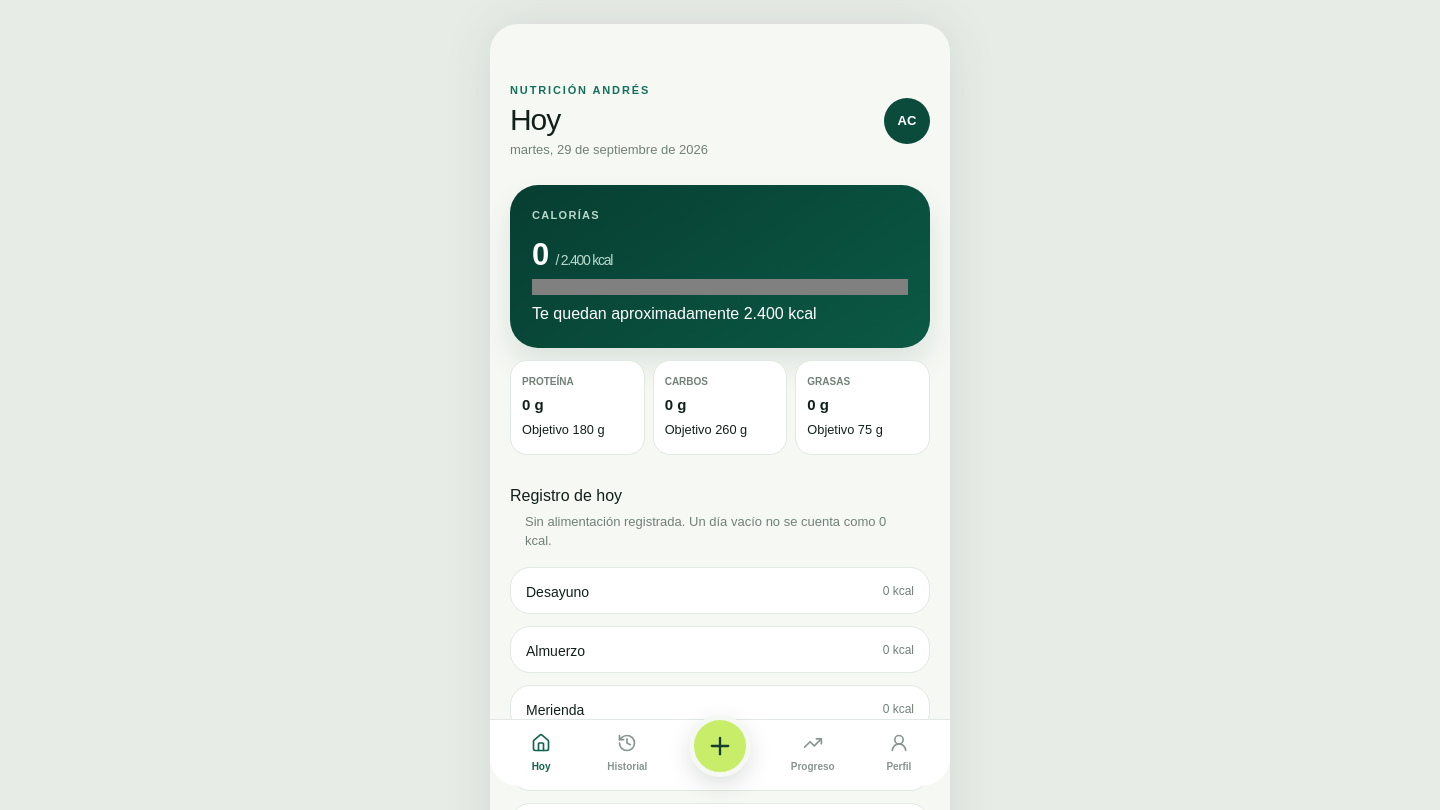
NutritionApp › does not offer saving again after a successful write followed by a failed refresh
Step 1. Click the button named "Agregar registro" → (720, 746), box [689,715,751,777]
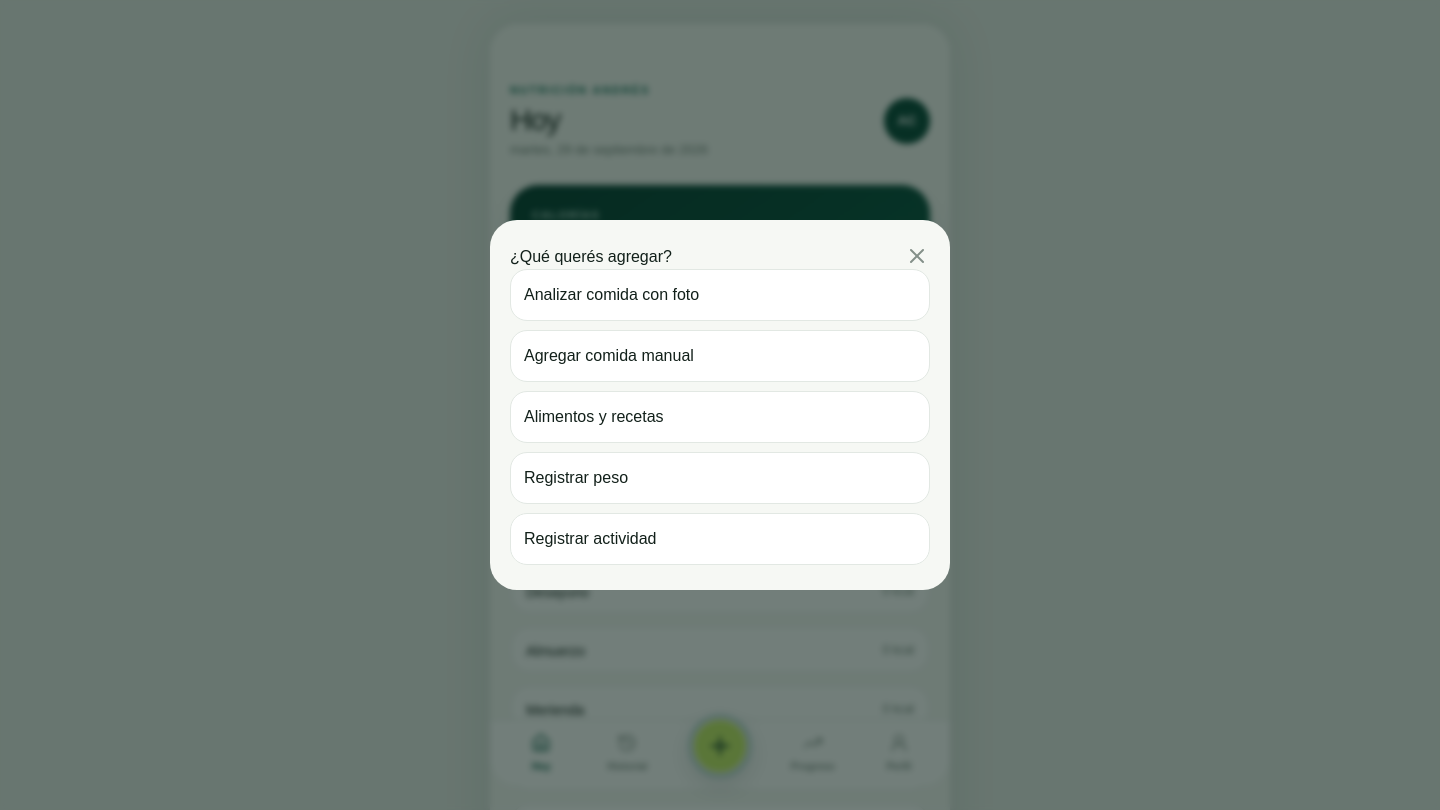
Step 2. Click the button "Registrar peso" → (576, 478), box [510,452,930,504]
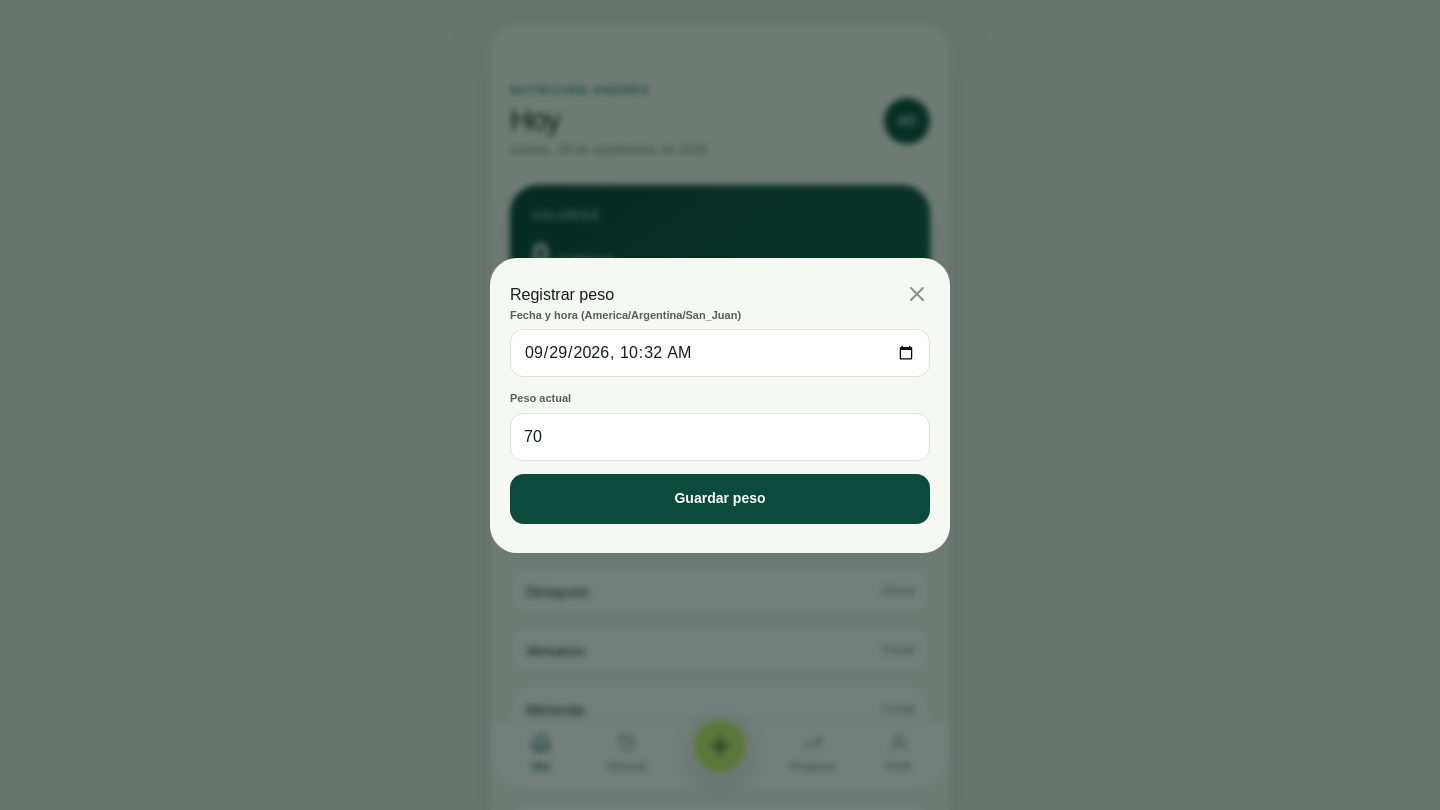
Step 3. Click the button "Guardar peso" → (720, 498), box [510,474,930,524]
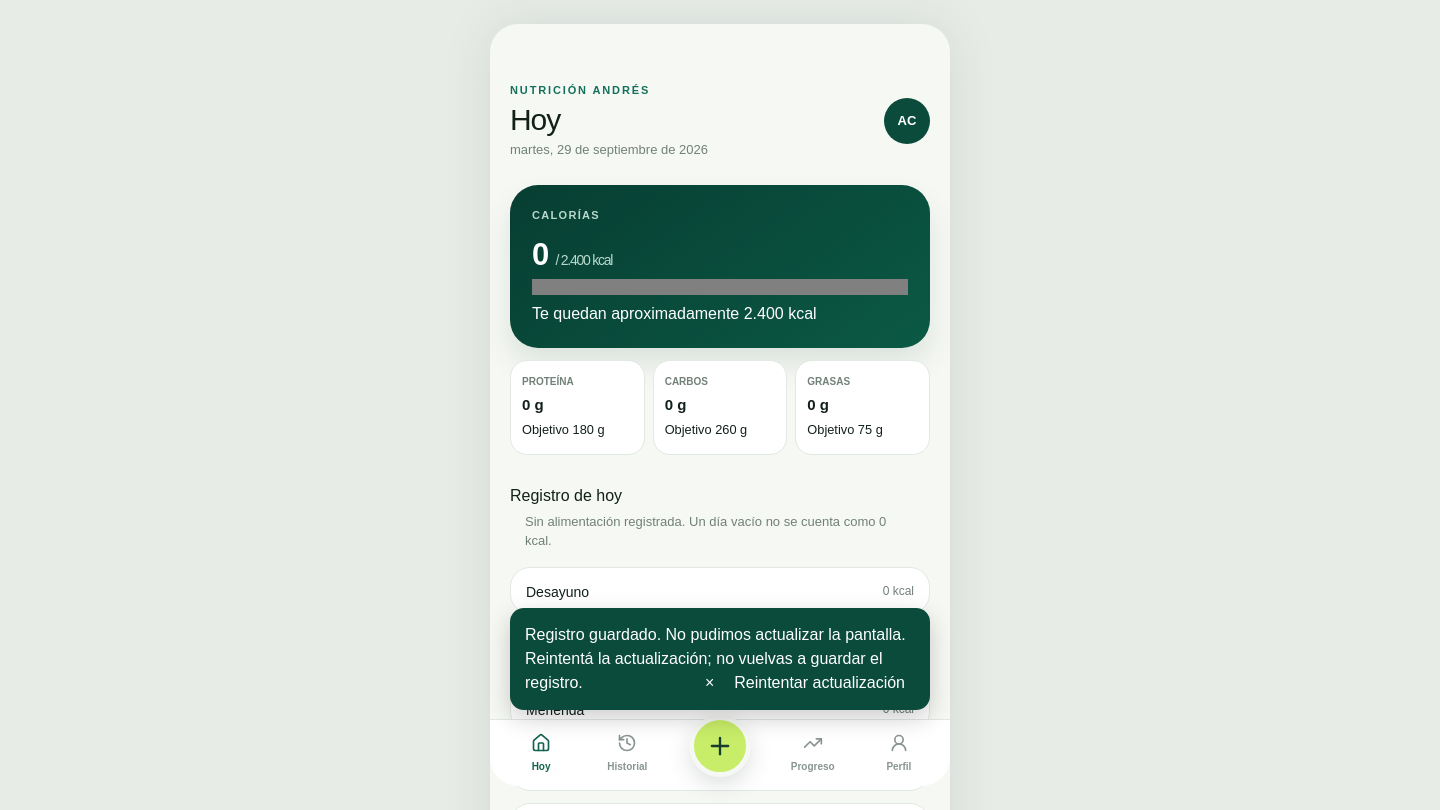
Check: the text "Registro guardado. No pudimos actualizar" is shown, box [525,626,906,691]
Check: the dialog is gone
Step 4. Click the button "Reintentar actualización" → (820, 683), box [724,671,915,695]
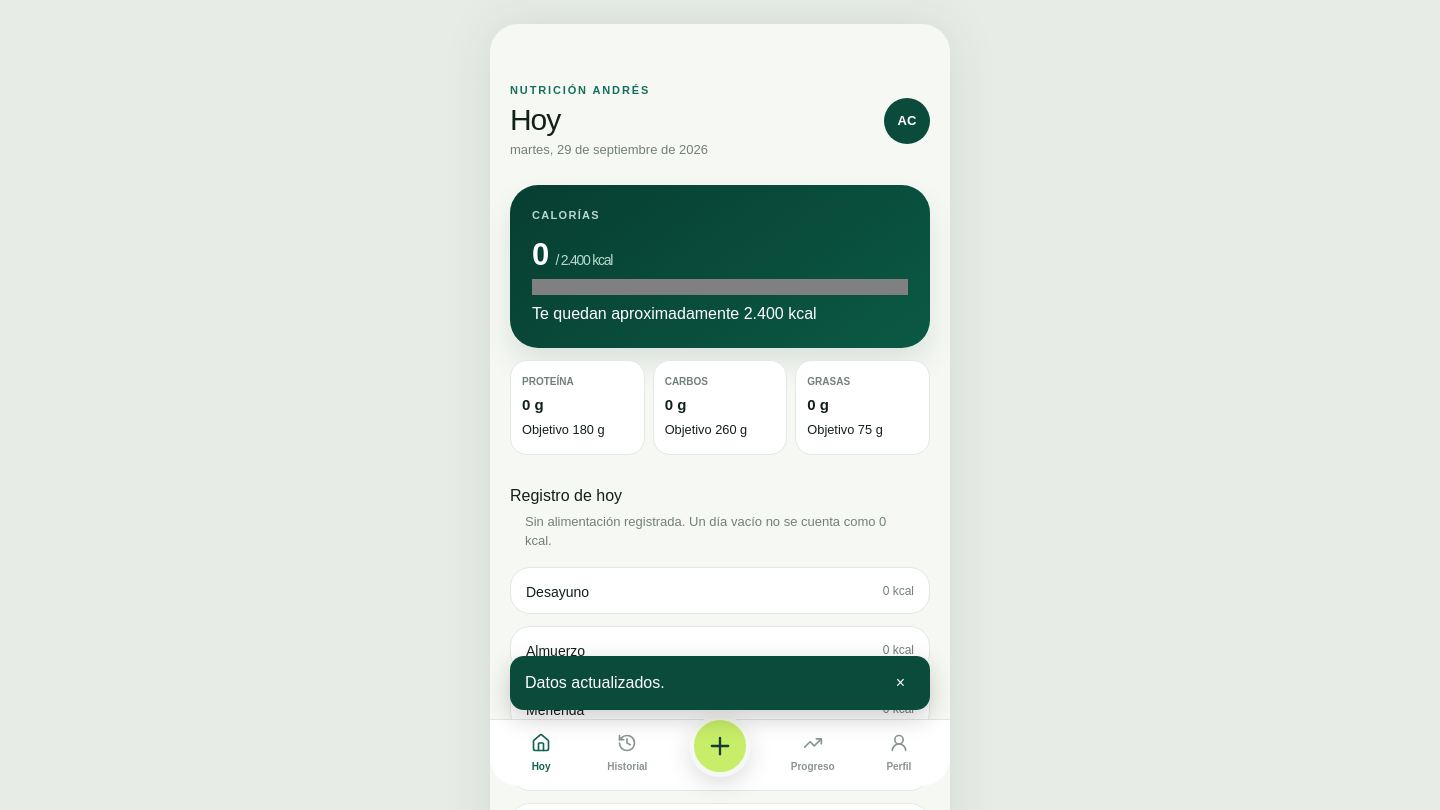
Check: the text "Datos actualizados." is shown, box [525,674,665,691]
